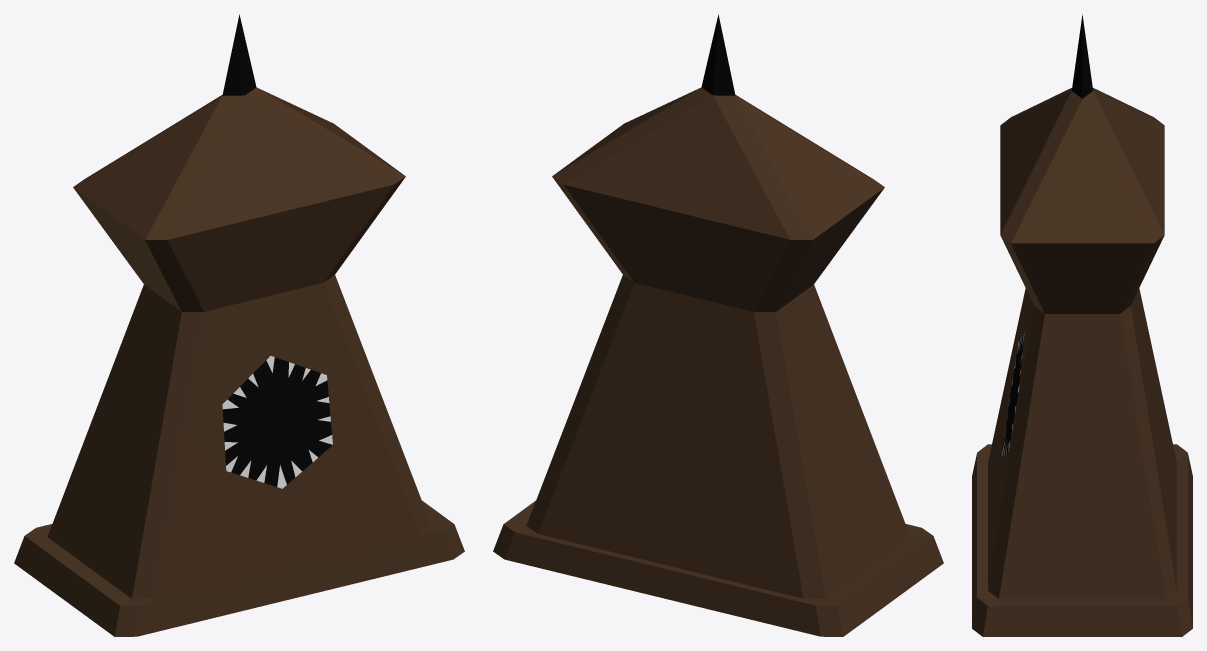
File: FichaBansheeEnemigo.fbx
The picture shows the model from 3 angles, left to right: view 1: azimuth 30°, elevation 25°; view 2: azimuth 150°, elevation 25°; view 3: azimuth 270°, elevation 25°; orthographic projection.
Parts seen in each view (by area): view 1: BEnemigo.001; view 2: BEnemigo.001; view 3: BEnemigo.001.
Boxes of the visible parts, box(x1,y1,x2,y2) form: BEnemigo.001: box(14, 14, 464, 636); BEnemigo.001: box(493, 14, 943, 636); BEnemigo.001: box(972, 14, 1192, 636).
Bounding box in the file's own units: 26.45 × 39.2 × 14.57.
